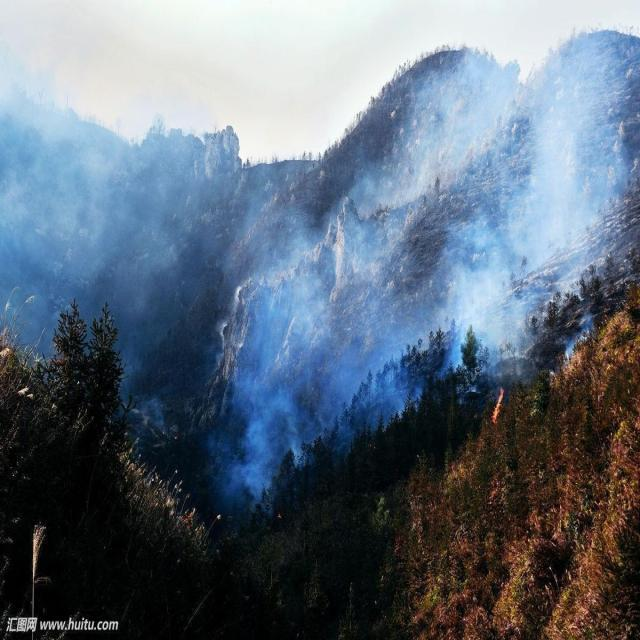Fire: (492, 386, 504, 426)
Smoke: (1, 1, 640, 509)
